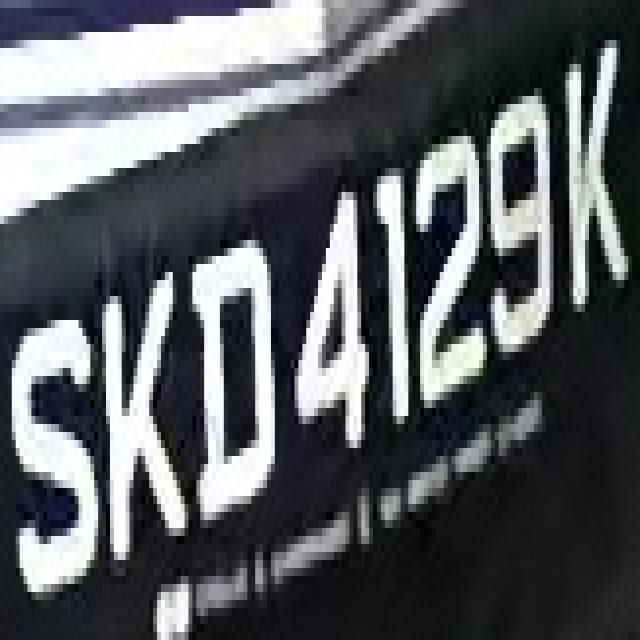1: (365, 160, 420, 456)
2: (404, 152, 487, 424)
4: (287, 184, 373, 472)
9: (468, 88, 566, 392)
D: (172, 232, 282, 552)
K: (94, 256, 188, 560), (542, 16, 628, 336)
S: (16, 296, 102, 600)
